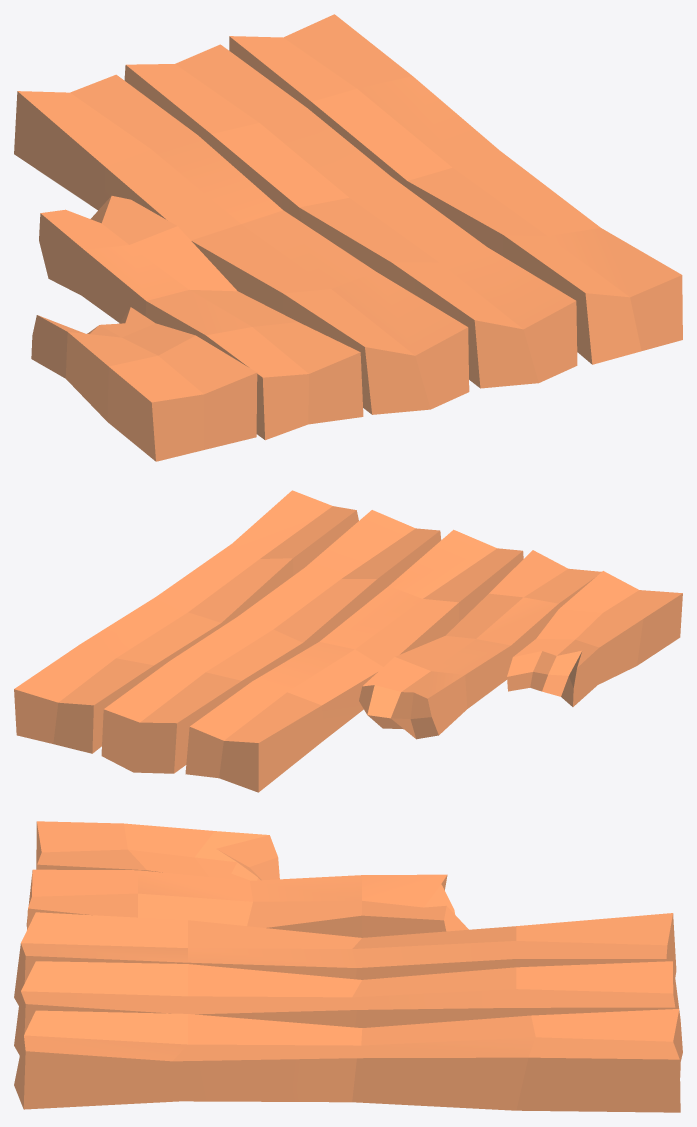
Rendered from PlatformS_Wood2.fbx.
The picture shows the model from 3 angles, top to bottom: view 1: azimuth 30°, elevation 25°; view 2: azimuth 150°, elevation 25°; view 3: azimuth 270°, elevation 25°; orthographic projection. The views are drawn at different scales.
Visible parts, largest first — view 1: WoodPlank6, WoodPlank4, WoodPlank5, WoodPlank7, WoodPlank11; view 2: WoodPlank6, WoodPlank4, WoodPlank5, WoodPlank7, WoodPlank11; view 3: WoodPlank5, WoodPlank4, WoodPlank6, WoodPlank7, WoodPlank11.
Part boxes in pixels (x1=…): WoodPlank6: x1=14, y1=74, x2=469, y2=414; WoodPlank4: x1=124, y1=44, x2=577, y2=388; WoodPlank5: x1=229, y1=14, x2=682, y2=364; WoodPlank7: x1=39, y1=196, x2=363, y2=440; WoodPlank11: x1=31, y1=307, x2=257, y2=461; WoodPlank6: x1=185, y1=529, x2=523, y2=792; WoodPlank4: x1=101, y1=510, x2=441, y2=773; WoodPlank5: x1=14, y1=490, x2=358, y2=753; WoodPlank7: x1=359, y1=550, x2=601, y2=739; WoodPlank11: x1=507, y1=571, x2=682, y2=706; WoodPlank5: x1=14, y1=1009, x2=680, y2=1112; WoodPlank4: x1=14, y1=961, x2=682, y2=1061; WoodPlank6: x1=14, y1=912, x2=676, y2=1005; WoodPlank7: x1=26, y1=869, x2=468, y2=937; WoodPlank11: x1=36, y1=821, x2=279, y2=880.
Bounding box in the file's own units: 334 × 44.35 × 396.
